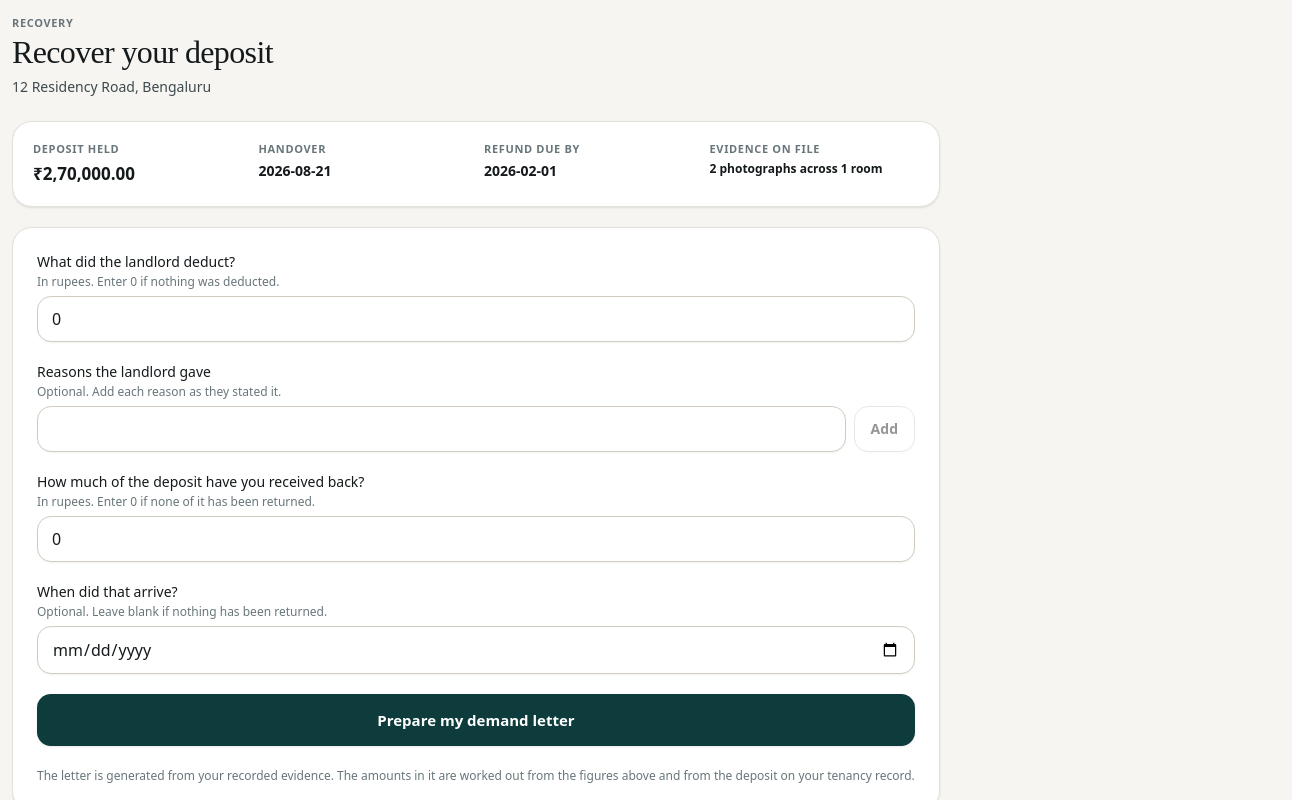
Test case: Recovery — the result › shows each figure the claim was built from
Replace the text in the field with id "claim-deductions" with "5000": (476, 319) [37,296,915,342]
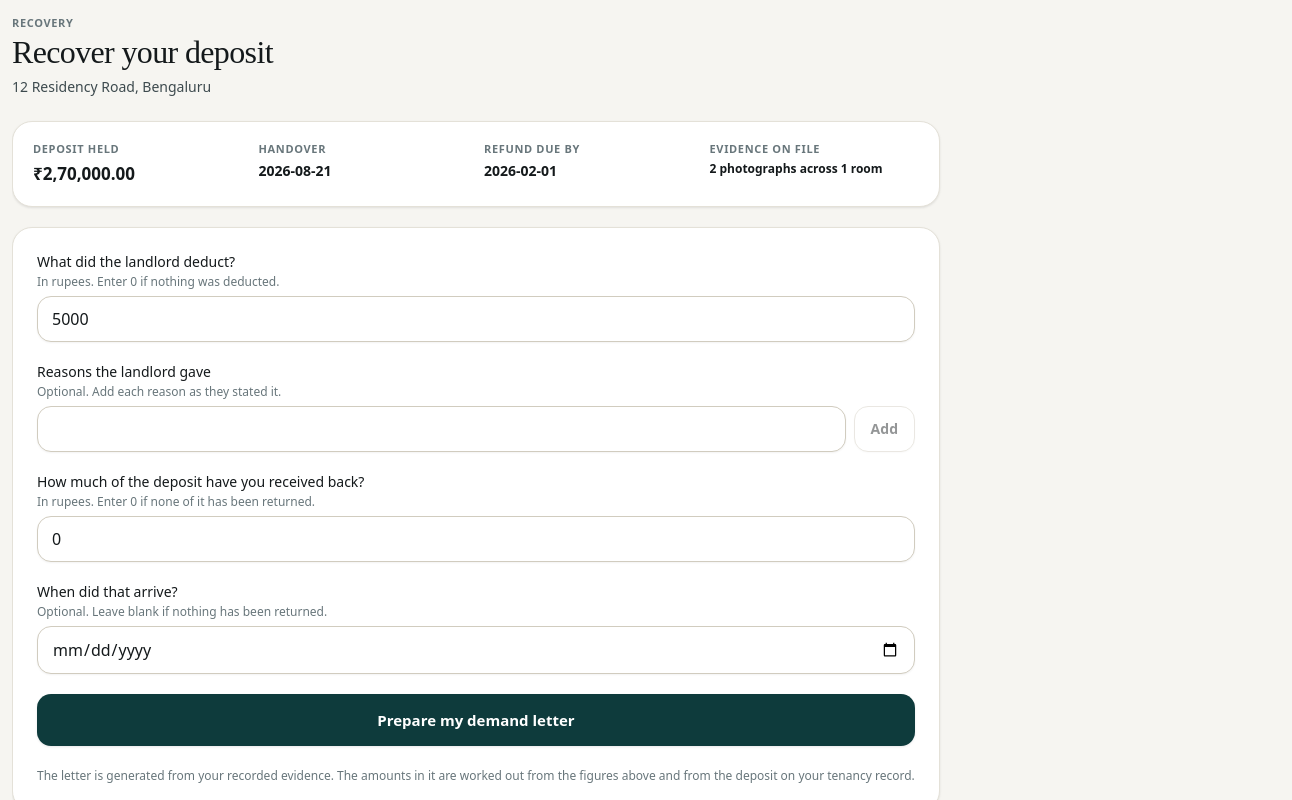
Replace the text in the field with id "claim-received" with "1000": (476, 539) [37,516,915,562]
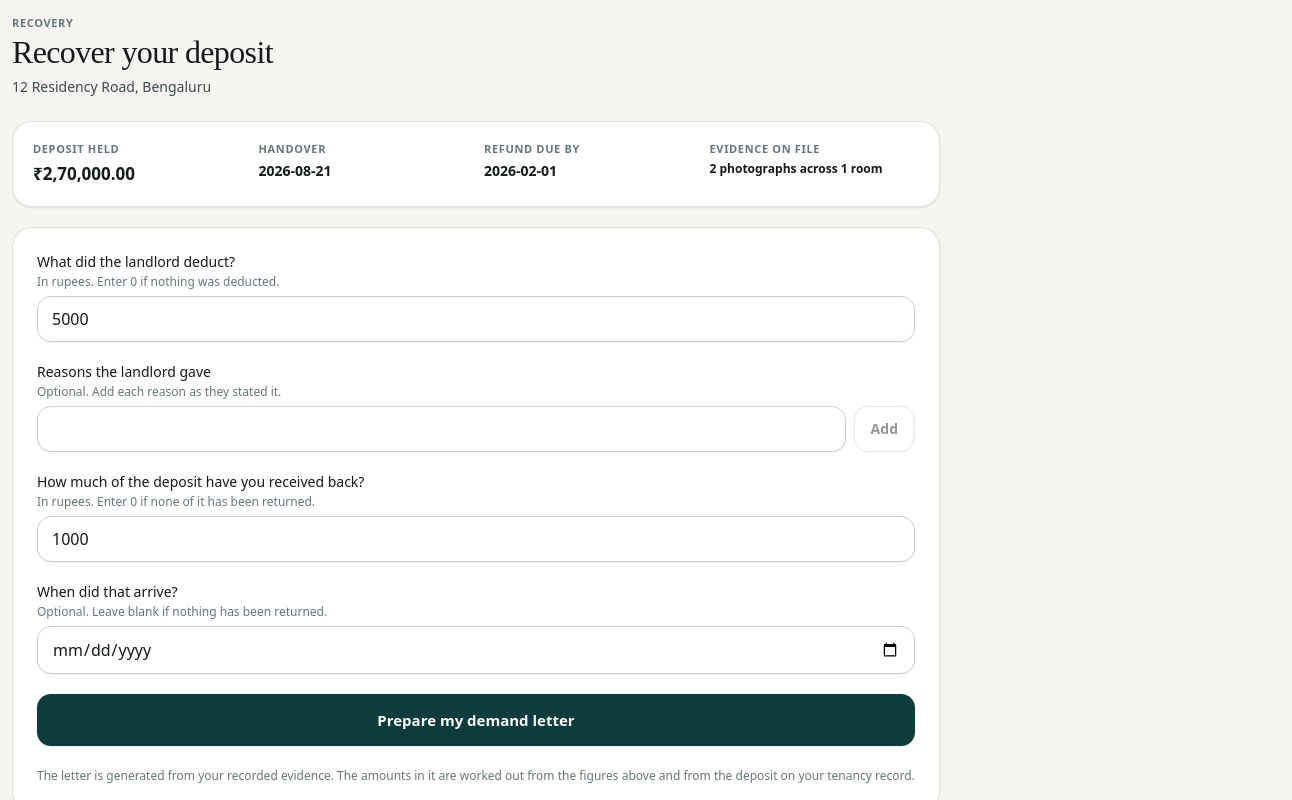
Click the button with test id "submit-claim": (476, 720) [37,694,915,746]
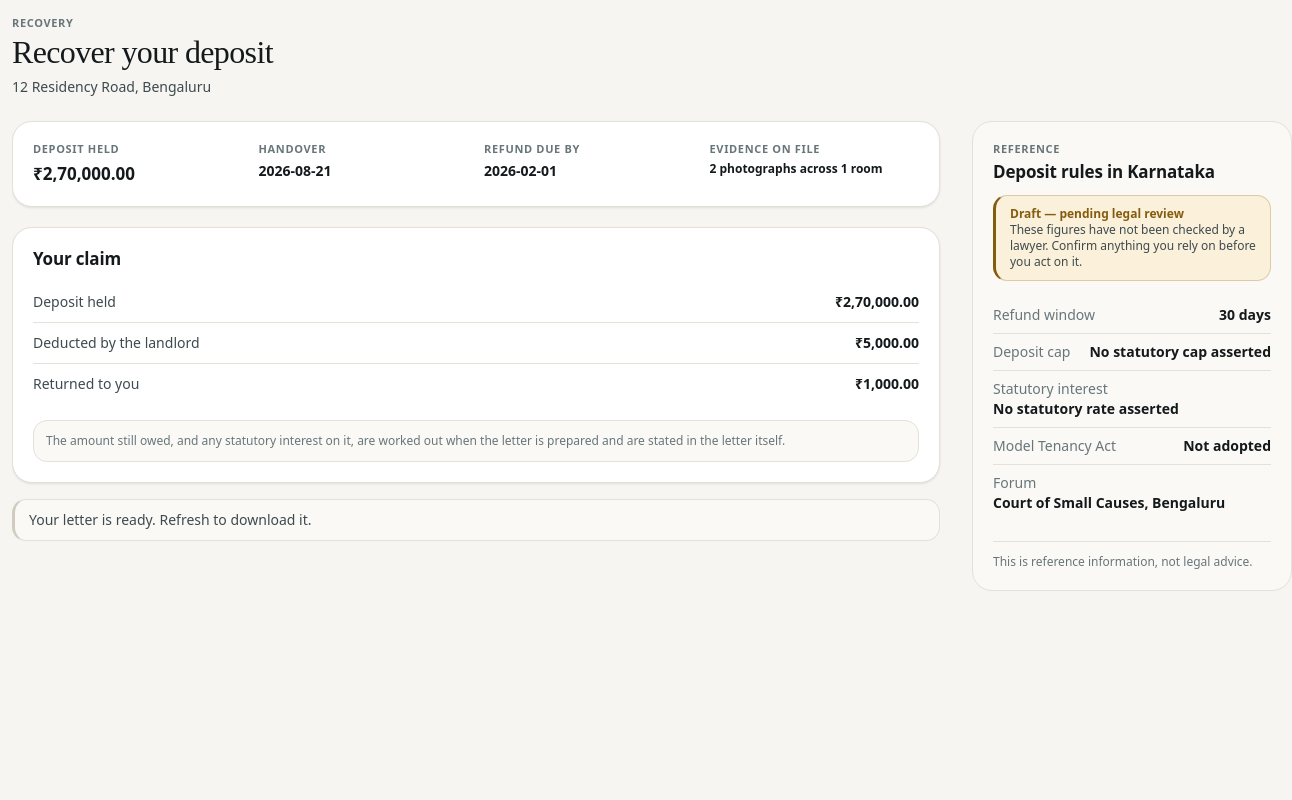
expect the element with test id "claim-result" is shown: met, box [12,227,940,541]
expect the text with test id "result-deductions" reads "₹5,000.00": met, box [855,333,919,352]
expect the text with test id "result-received" reads "₹1,000.00": met, box [855,374,919,393]
